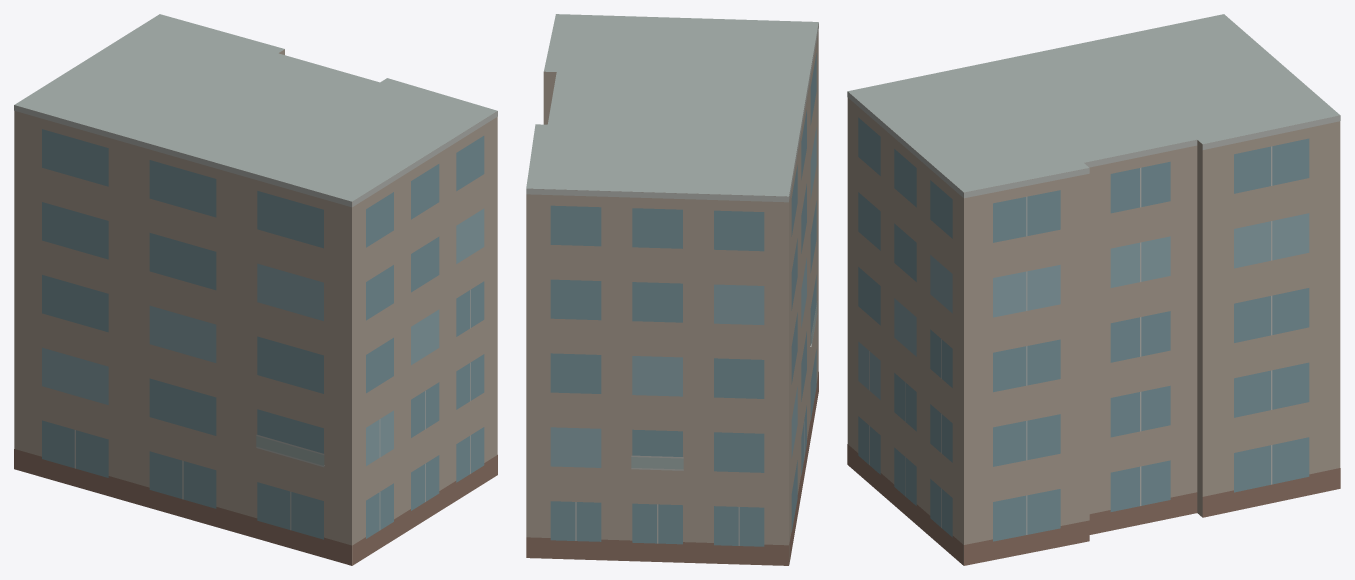
The model's file is survey-upis-32743660.glb.
The picture shows the model from 3 angles, left to right: view 1: azimuth 30°, elevation 25°; view 2: azimuth 150°, elevation 25°; view 3: azimuth 270°, elevation 25°; orthographic projection. The views are drawn at different scales.
Parts seen in each view (by area): view 1: survey-upis-32743660.tmp; view 2: survey-upis-32743660.tmp; view 3: survey-upis-32743660.tmp.
Part boxes in pixels (x1,y1,x2,y2): survey-upis-32743660.tmp: [14, 14, 497, 565]; survey-upis-32743660.tmp: [526, 14, 818, 565]; survey-upis-32743660.tmp: [847, 14, 1340, 565].
Size of the model in its own units: 16 by 15.6 by 18.68.
